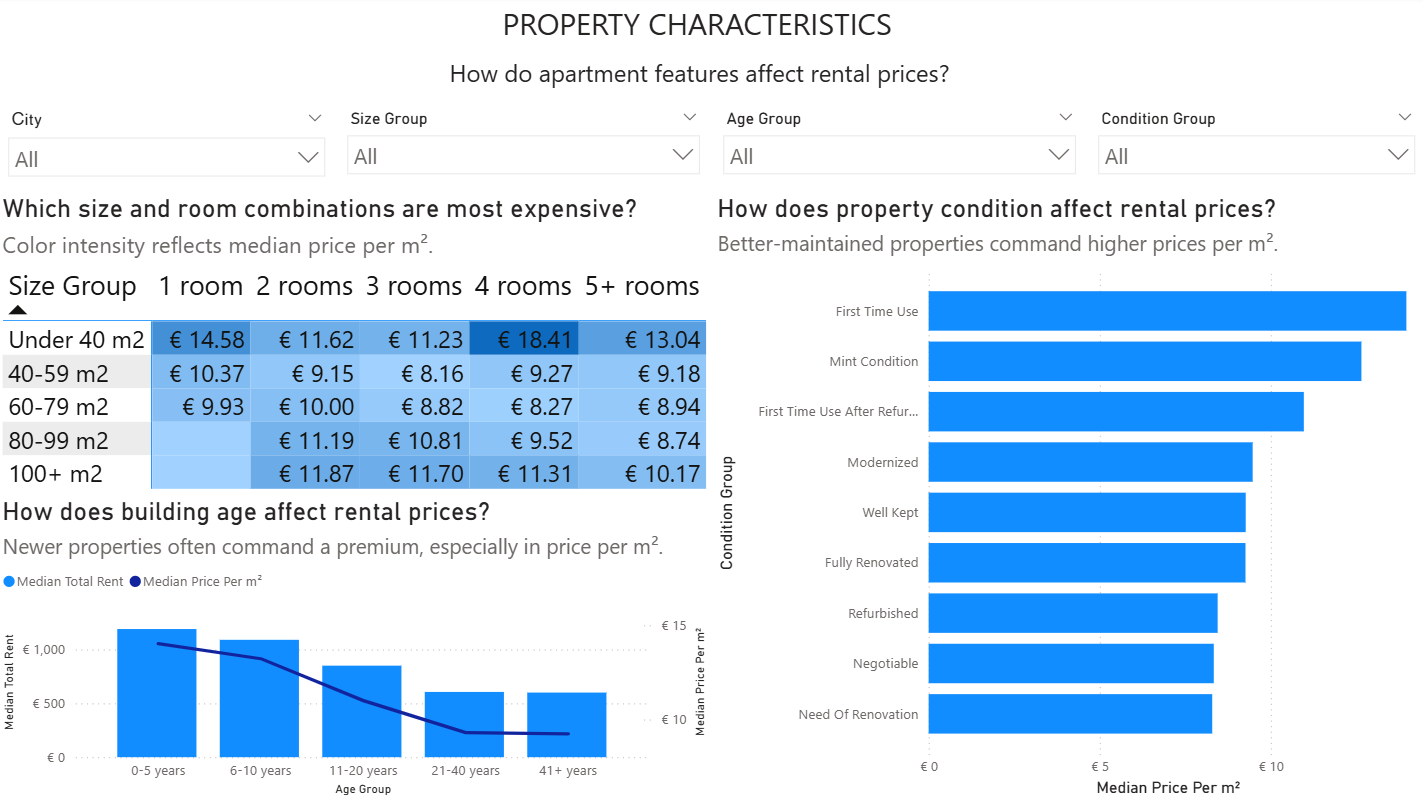

Layout of this report page (visuals, bound fields, positions):
{"tool":"powerbi","page":{"name":"Property Characteristics","canvas":[1280,720],"ordinal":2},"visuals":[{"type":"textbox","box":[448,0,368,48],"z":0},{"type":"textbox","box":[400,48,464,48],"z":1000},{"type":"slicer","fields":{"Values":["rentals_enriched.city"]},"box":[0,96,304,80],"z":2000},{"type":"pivotTable","title":"Which size and room combinations are most expensive?","fields":{"Rows":["rentals_enriched.size_group"],"Columns":["rentals_enriched.rooms_group"],"Values":["Median(rentals_enriched.price_per_m2)"]},"box":[0,176,640,272],"z":3000},{"type":"lineStackedColumnComboChart","title":"How does building age affect rental prices?","fields":{"Category":["rentals_enriched.age_group"],"Y":["Median(rentals_enriched.total_rent)"],"Y2":["Median(rentals_enriched.price_per_m2)"]},"box":[0,448,640,272],"z":4000},{"type":"barChart","title":"How does property condition affect rental prices?","fields":{"Category":["rentals_enriched.condition_group"],"Y":["Median(rentals_enriched.price_per_m2)"]},"box":[640,176,640,544],"z":5000},{"type":"slicer","fields":{"Values":["rentals_enriched.size_group"]},"box":[304,96,336,80],"z":6000},{"type":"slicer","fields":{"Values":["rentals_enriched.condition_group"]},"box":[976,96,304,80],"z":7000},{"type":"slicer","fields":{"Values":["rentals_enriched.age_group"]},"box":[640,96,336,80],"z":8000}]}

Visuals, with their boxes in screenshot pixels (x1, y1, x2, y2), scaled from the page's 1280x720 canvas onto the 1423x799 screenshot:
textbox: 498:0:907:53
textbox: 445:53:961:107
slicer - rentals_enriched.city: 0:107:338:195
"Which size and room combinations are most expensive?" pivotTable: 0:195:712:497
"How does building age affect rental prices?" lineStackedColumnComboChart: 0:497:712:798
"How does property condition affect rental prices?" barChart: 712:195:1422:798
slicer - rentals_enriched.size_group: 338:107:712:195
slicer - rentals_enriched.condition_group: 1085:107:1422:195
slicer - rentals_enriched.age_group: 712:107:1085:195
